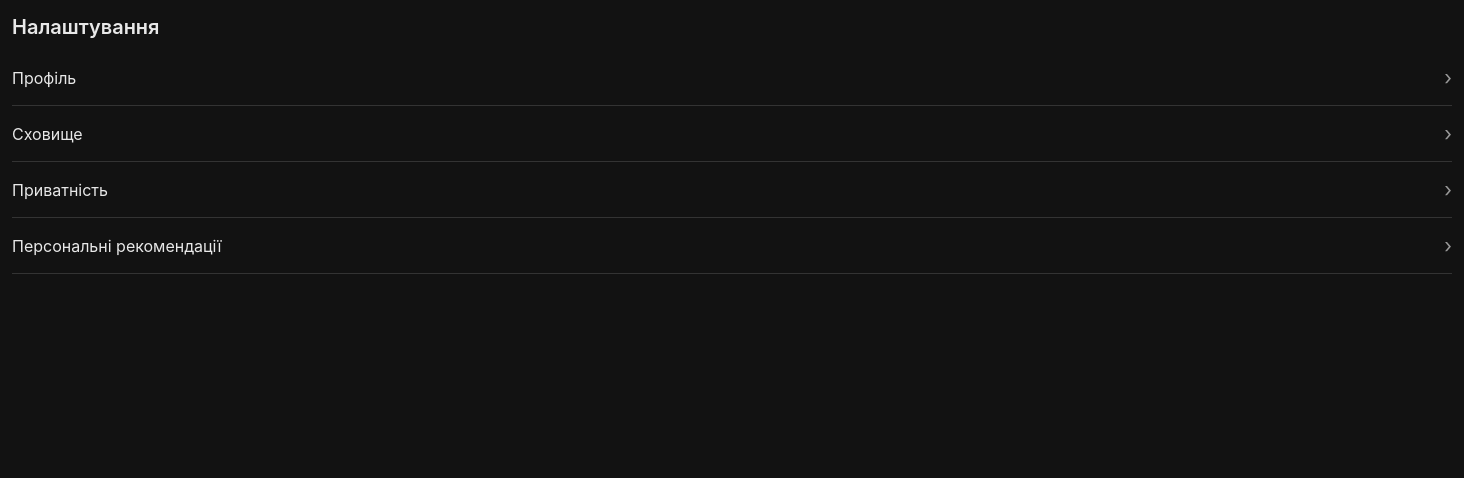
Test: Сховище direction › opens from the settings row, shows honest usage rows and the separated danger zone
Click the button "Сховище ›" at {"x": 47, "y": 134}, box x1=12 y1=106 x2=1452 y2=162
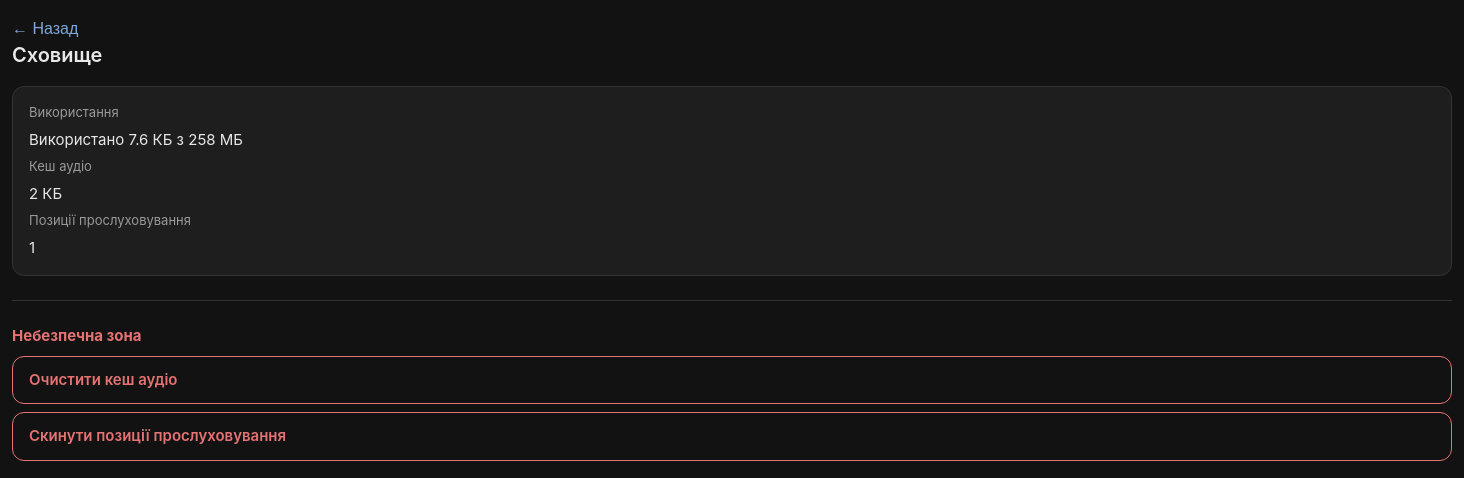
Check: the heading "Сховище" is shown, box x1=12 y1=40 x2=102 y2=70
Check: the text "Позиції прослуховування" is shown, box x1=29 y1=212 x2=191 y2=228
Check: the text "1" is shown, box x1=29 y1=238 x2=35 y2=256
